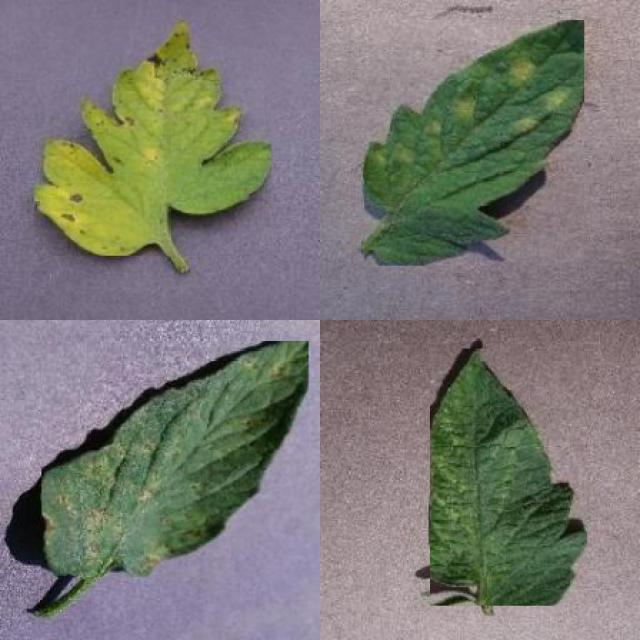Leaf Mold: (364, 20, 584, 266)
Septoria: (42, 340, 308, 577), (35, 20, 272, 256)
Spider Mites: (430, 349, 587, 605)
